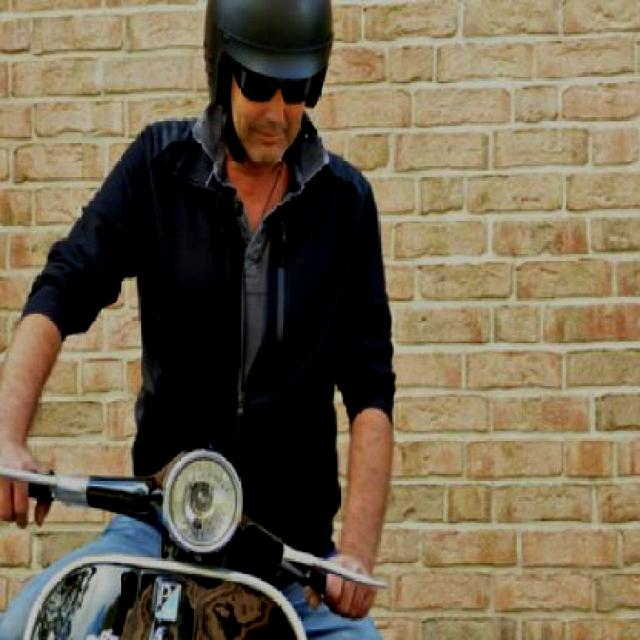With Helmet: (192, 2, 337, 170)
